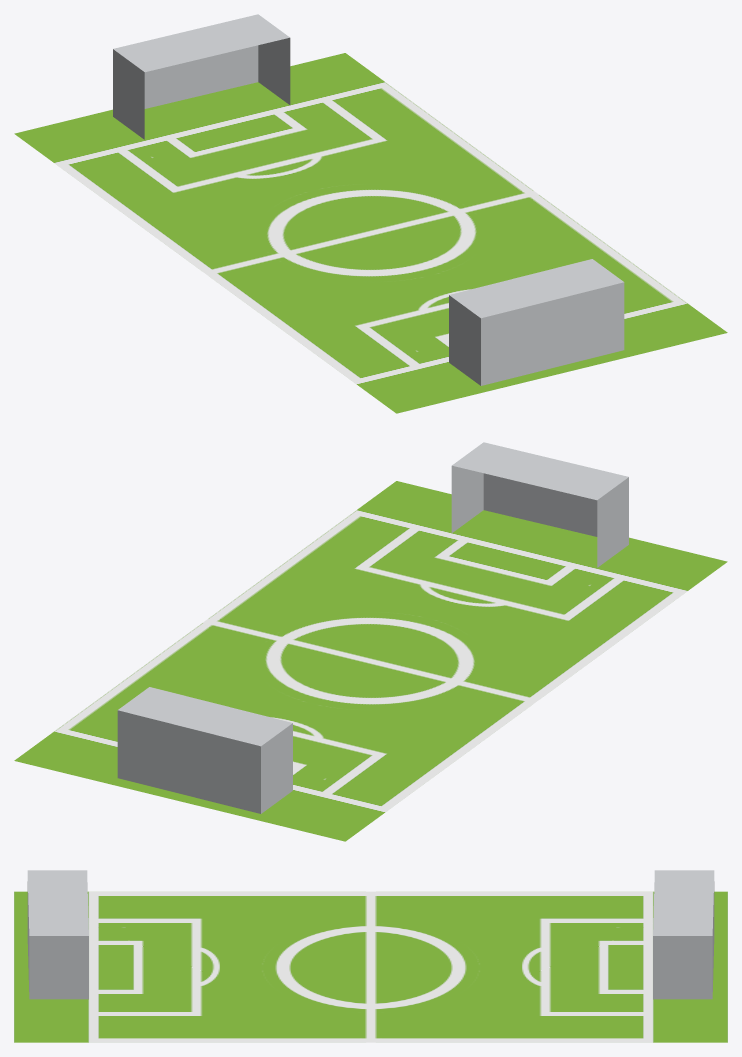
Rendered from stade.glb.
The picture shows the model from 3 angles, top to bottom: view 1: azimuth 30°, elevation 25°; view 2: azimuth 150°, elevation 25°; view 3: azimuth 270°, elevation 25°; orthographic projection. The views are drawn at different scales.
Parts seen in each view (by area): view 1: Plan; view 2: Plan; view 3: Plan.
Part boxes in pixels (x1,y1,x2,y2): Plan: [14, 14, 727, 413]; Plan: [14, 442, 727, 841]; Plan: [14, 870, 727, 1042].
Bounding box in the file's own units: 45.02 × 8.83 × 90.02.
1 material, 1 textured.
